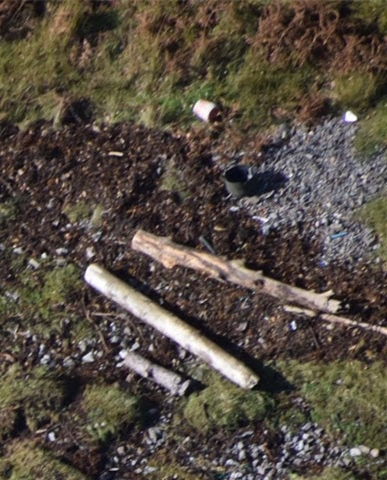straight_bar: (83, 250, 262, 389), (125, 219, 345, 317), (115, 344, 196, 398)
tube: (282, 300, 387, 338)
white_in_green: (203, 145, 276, 212), (175, 78, 237, 140), (322, 89, 377, 141)
